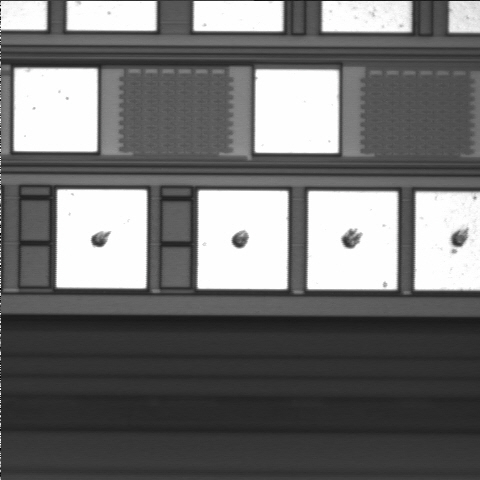pad: (198, 190, 288, 289), (57, 190, 147, 288), (308, 191, 397, 290), (255, 69, 339, 153), (14, 68, 97, 152)
